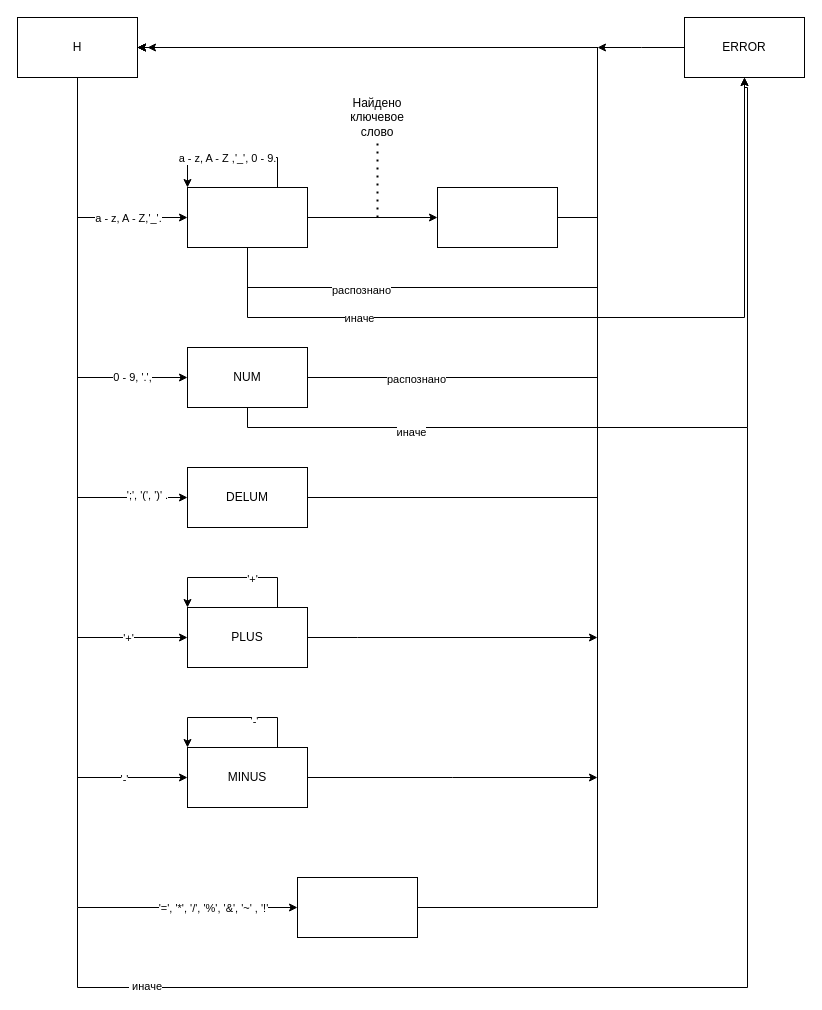
The diagram is 822 pixels wide and 1010 high, and some of its shapes have lost their labels. The box of each missing label's shape, as (x1, y1, x2, y2) in pixels:
ID: (186, 186, 308, 248)
KEYWORD: (436, 186, 558, 248)
OPERATOR: (296, 876, 418, 938)
